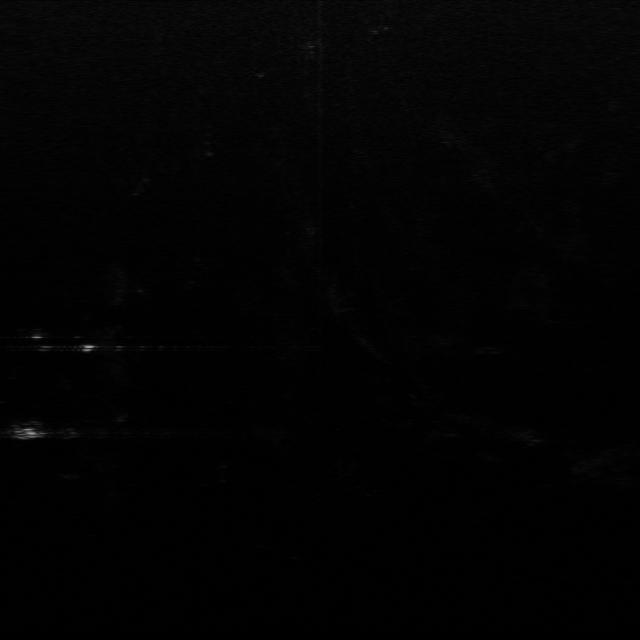rov: (10, 422, 46, 445)
